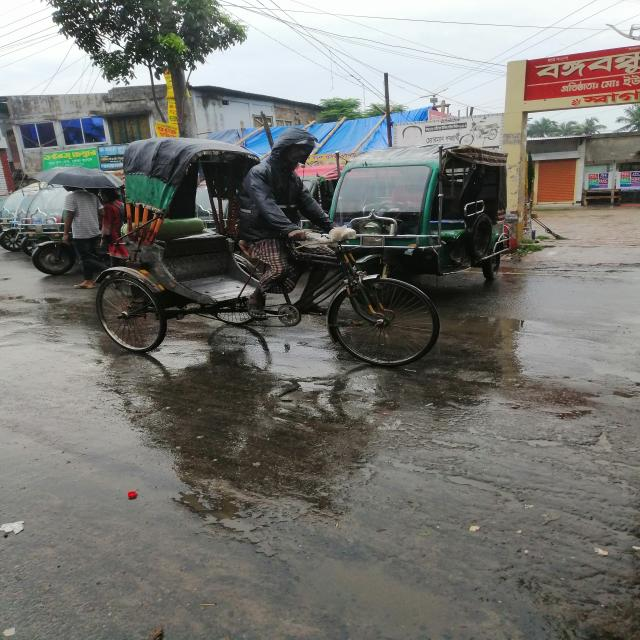Easybike: (333, 142, 519, 282)
Rickshaw: (93, 140, 444, 372)
